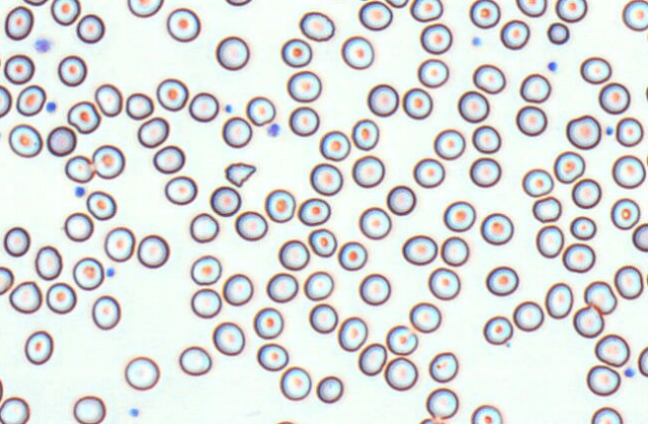PLT: (34, 37, 55, 57), (266, 123, 283, 137), (103, 265, 117, 279), (623, 368, 638, 380), (74, 186, 87, 199), (547, 59, 560, 72), (45, 101, 57, 115), (128, 407, 140, 419), (471, 36, 483, 47), (604, 124, 613, 135)
RBC: (565, 114, 601, 149), (124, 355, 159, 390), (66, 100, 101, 134), (384, 356, 418, 391), (166, 7, 200, 42), (91, 144, 125, 179), (594, 333, 629, 367), (215, 35, 249, 70), (309, 162, 343, 196), (583, 280, 617, 314), (8, 123, 42, 157), (611, 154, 645, 188), (340, 35, 374, 69), (103, 226, 135, 262), (212, 321, 245, 355), (351, 154, 384, 188), (286, 70, 321, 102), (401, 234, 437, 265), (9, 280, 42, 313), (358, 206, 391, 239), (480, 212, 513, 245), (572, 304, 604, 338), (279, 366, 311, 400), (586, 364, 620, 396), (72, 256, 104, 290), (137, 234, 169, 268), (367, 83, 399, 117), (156, 77, 188, 111), (544, 282, 573, 319), (425, 387, 458, 419), (358, 273, 391, 305), (428, 267, 460, 300), (419, 22, 452, 54), (553, 150, 585, 183), (234, 210, 268, 241), (264, 188, 295, 222), (337, 316, 367, 351), (299, 11, 334, 41), (613, 264, 643, 299), (409, 301, 441, 333), (137, 116, 169, 148), (433, 128, 465, 160), (457, 90, 489, 122), (443, 200, 475, 232), (598, 82, 630, 114), (385, 324, 418, 355), (178, 345, 211, 376), (412, 157, 445, 188), (562, 242, 595, 273), (472, 63, 505, 94), (485, 265, 518, 296), (358, 0, 392, 30), (24, 330, 53, 365), (91, 295, 120, 330), (4, 5, 33, 40), (209, 185, 241, 216), (221, 116, 252, 148), (45, 282, 76, 314), (15, 84, 46, 116), (222, 273, 253, 305), (512, 300, 544, 331), (515, 105, 547, 136), (357, 342, 387, 375), (253, 306, 283, 339), (164, 175, 197, 205), (535, 224, 564, 258), (34, 245, 62, 280), (190, 254, 221, 285), (278, 239, 309, 270), (188, 91, 219, 122), (319, 130, 350, 161), (3, 53, 34, 84), (266, 272, 298, 302), (417, 58, 449, 88), (469, 157, 501, 187), (280, 37, 312, 67), (57, 54, 87, 86), (519, 73, 551, 103), (402, 87, 432, 119), (610, 197, 640, 229), (297, 197, 330, 226), (152, 144, 185, 173), (94, 83, 122, 117), (189, 212, 219, 243), (428, 351, 458, 382), (190, 288, 221, 318), (482, 315, 513, 345), (386, 184, 416, 215), (245, 95, 275, 126), (63, 211, 93, 242), (288, 106, 319, 136), (46, 125, 76, 156), (571, 177, 601, 208), (256, 342, 288, 371), (521, 168, 553, 197), (73, 395, 106, 423), (86, 190, 116, 220), (308, 303, 338, 333), (337, 240, 367, 270), (303, 270, 333, 300), (499, 19, 529, 49), (64, 154, 95, 183), (440, 235, 469, 266), (351, 118, 379, 150), (579, 56, 611, 84), (308, 227, 337, 257), (471, 124, 501, 153), (469, 0, 500, 28), (615, 116, 643, 147), (76, 13, 104, 43), (0, 396, 30, 423), (3, 226, 30, 256), (125, 92, 153, 120), (622, 0, 647, 31), (316, 375, 343, 403), (532, 196, 561, 222), (50, 0, 80, 25), (410, 0, 443, 22), (555, 0, 587, 22), (569, 215, 596, 240), (127, 0, 163, 17), (470, 404, 502, 423), (590, 406, 622, 423), (515, 0, 547, 17), (546, 21, 569, 44), (632, 222, 647, 252), (0, 265, 14, 295), (0, 84, 12, 117), (637, 346, 647, 377), (418, 417, 446, 424), (385, 0, 408, 8), (225, 0, 252, 6), (22, 0, 48, 6), (0, 377, 4, 402), (273, 420, 298, 424), (645, 83, 648, 103)
Schistocyte: (225, 161, 259, 187)
